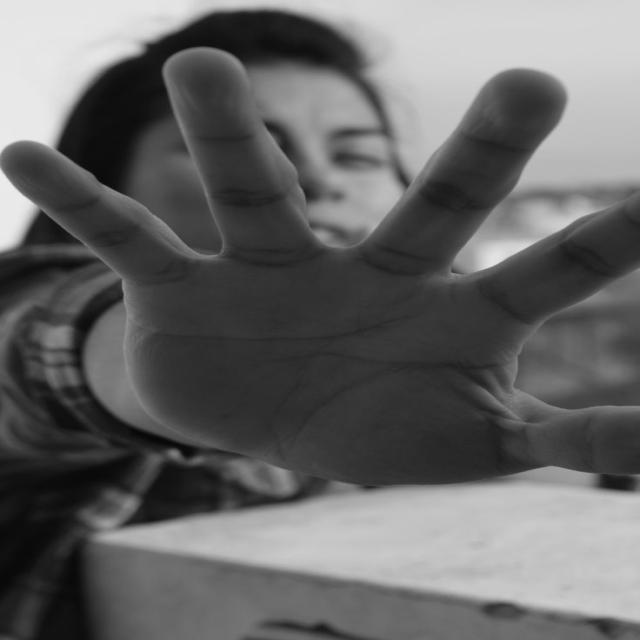7_mano_rostro: (0, 49, 640, 403)
